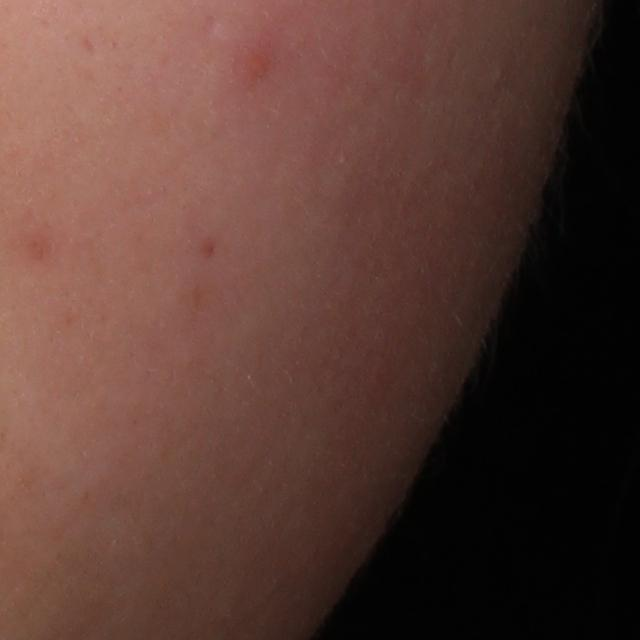atrophic_scar: (200, 15, 218, 38)
papule: (231, 41, 279, 90)
